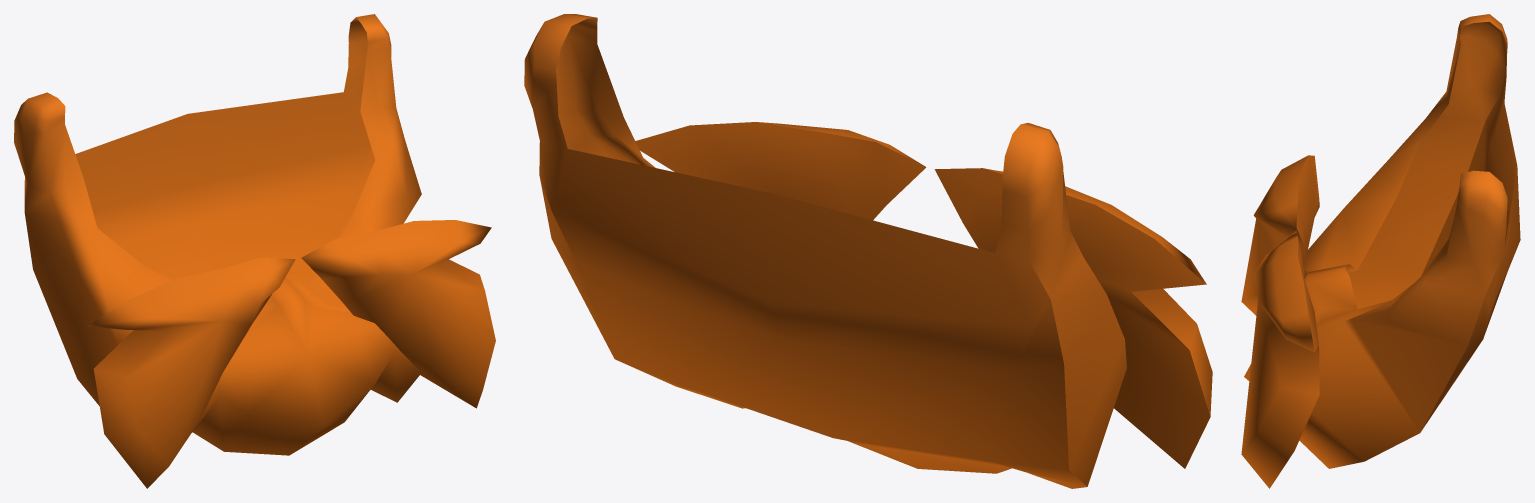
File: Beard_Orange_15.fbx
3 renders of one model, left to right at view 1: azimuth 30°, elevation 25°; view 2: azimuth 150°, elevation 25°; view 3: azimuth 270°, elevation 25°, orthographic. The views are drawn at different scales.
Visible parts, largest first — view 1: Beard_Orange_15; view 2: Beard_Orange_15; view 3: Beard_Orange_15.
Boxes of the visible parts, x1=… form: Beard_Orange_15: x1=14, y1=14, x2=495, y2=488; Beard_Orange_15: x1=524, y1=14, x2=1212, y2=488; Beard_Orange_15: x1=1241, y1=14, x2=1520, y2=488.
Bounding box in the file's own units: 57.97 × 45.99 × 34.69.
